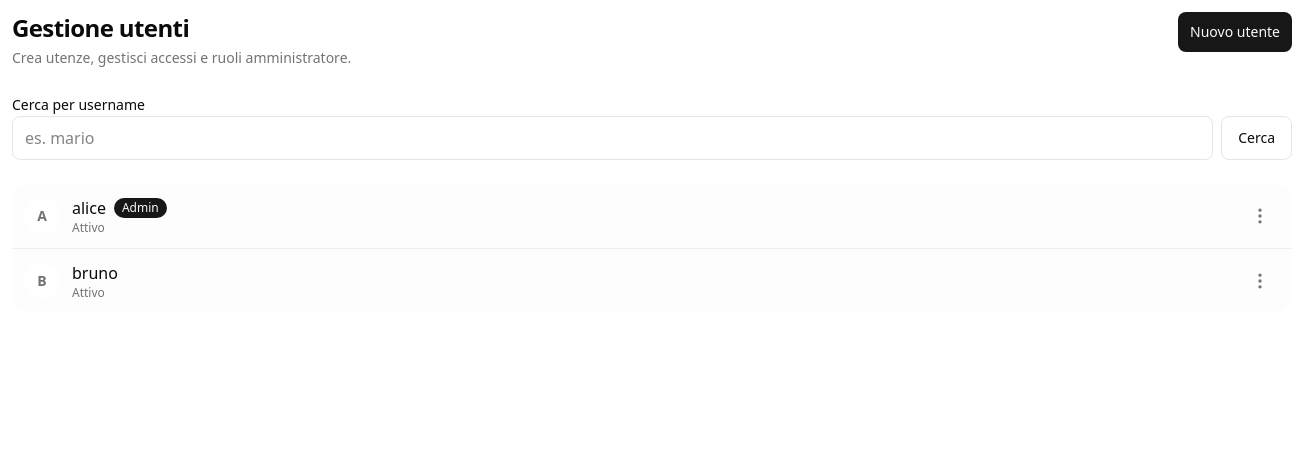
Test: UsersView › promuove un utente ad admin
Click the button named "Azioni per bruno": (1260, 281) [1240,261,1280,301]
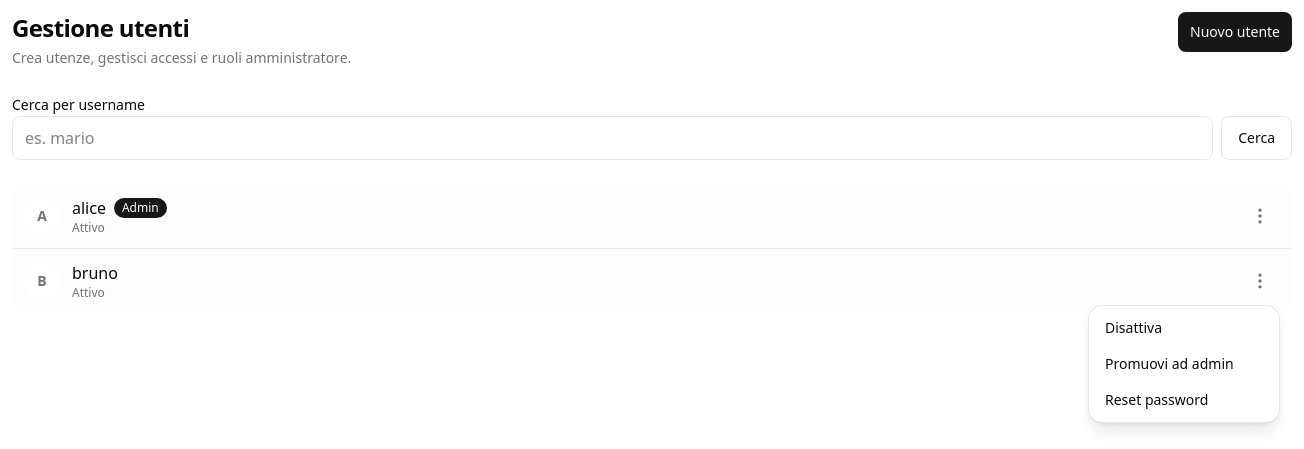
Click the menu item "Promuovi ad admin": (1184, 364) [1093,346,1275,382]
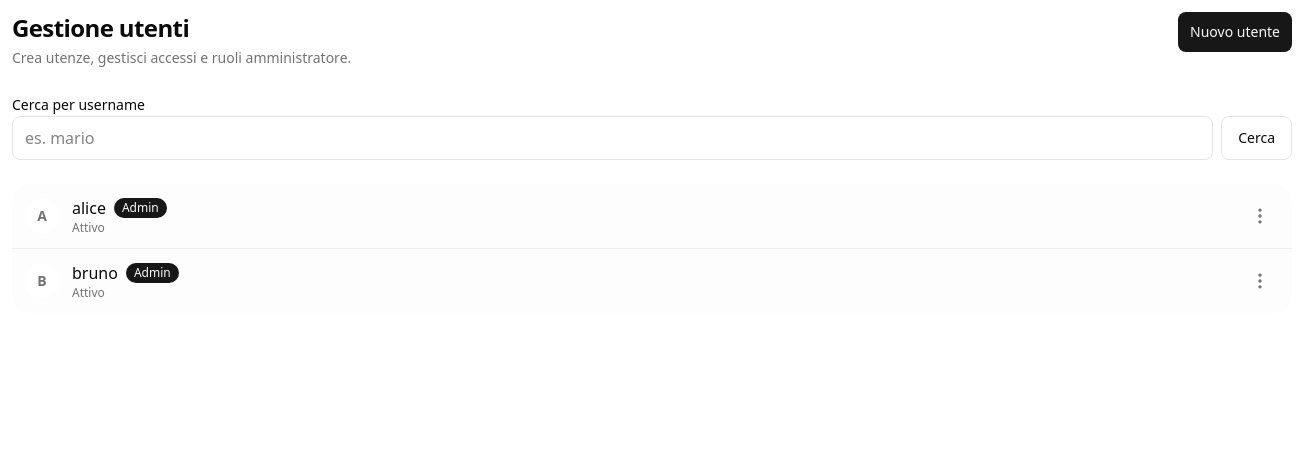
Now the list item "b bruno Admin Attivo" is shown, box [12,249,1292,313]
Click the button named "Azioni per bruno": (1260, 281) [1240,261,1280,301]
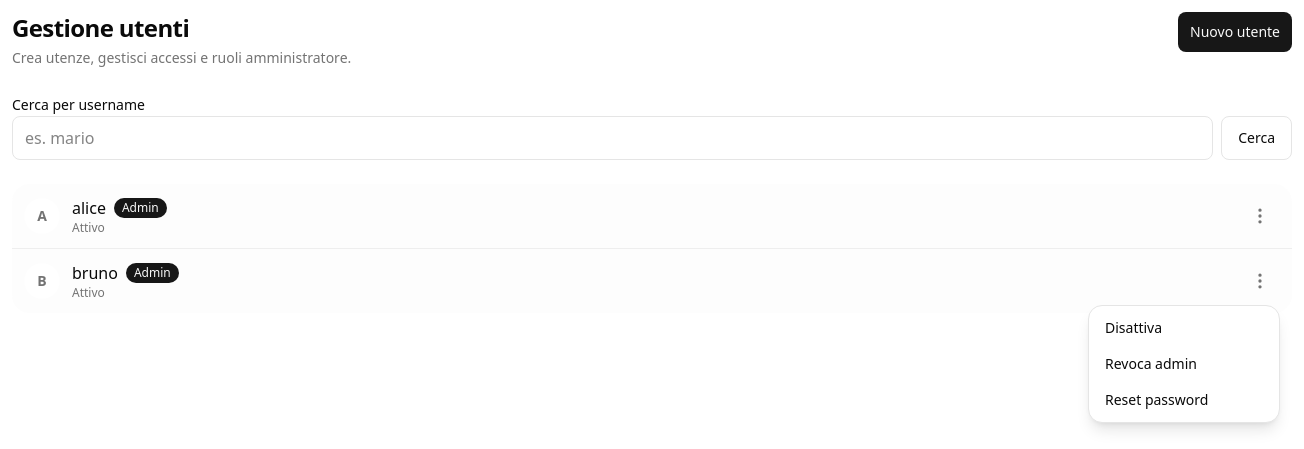
Now the menu item "Revoca admin" is shown, box [1093,346,1275,382]
